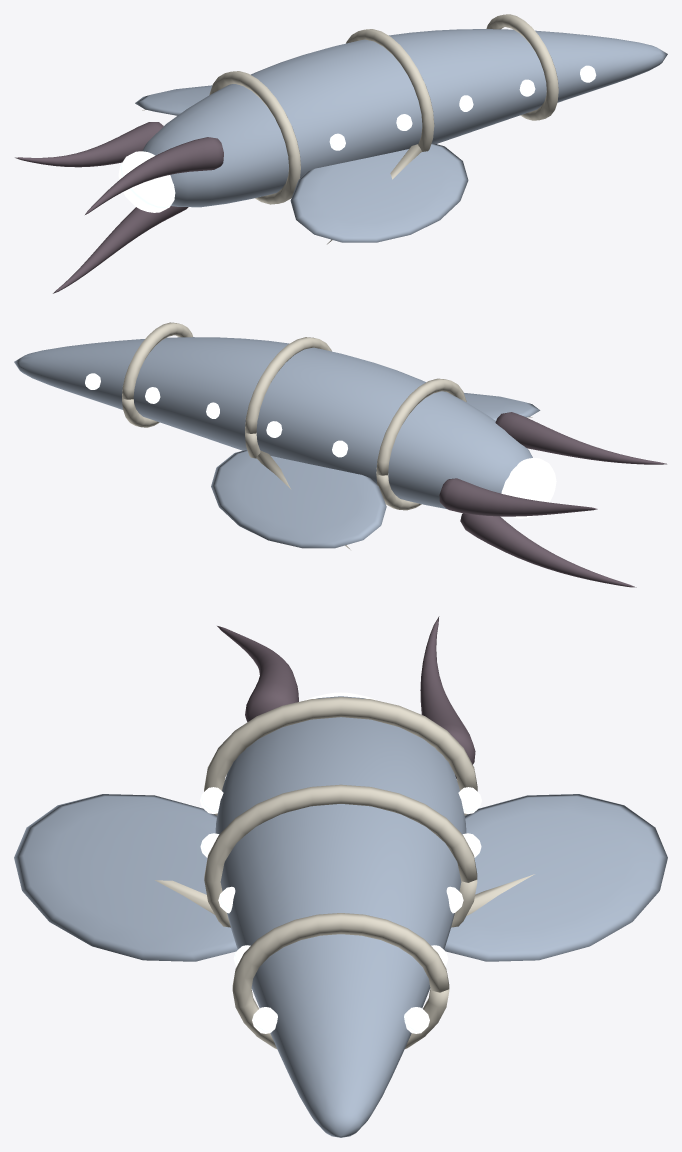
Rendered from organic_medium.glb.
3 views of the same model, one above another, from view 1: azimuth 30°, elevation 25°; view 2: azimuth 150°, elevation 25°; view 3: azimuth 270°, elevation 25° (orthographic). The views are drawn at different scales.
Parts seen in each view (by area): view 1: organic_medium; view 2: organic_medium; view 3: organic_medium.
Part boxes in pixels (<box>): organic_medium: <box>15,14,667,293</box>; organic_medium: <box>14,322,666,587</box>; organic_medium: <box>14,616,667,1137</box>.
Bounding box in the file's own units: 1.5 × 0.3845 × 0.864.
